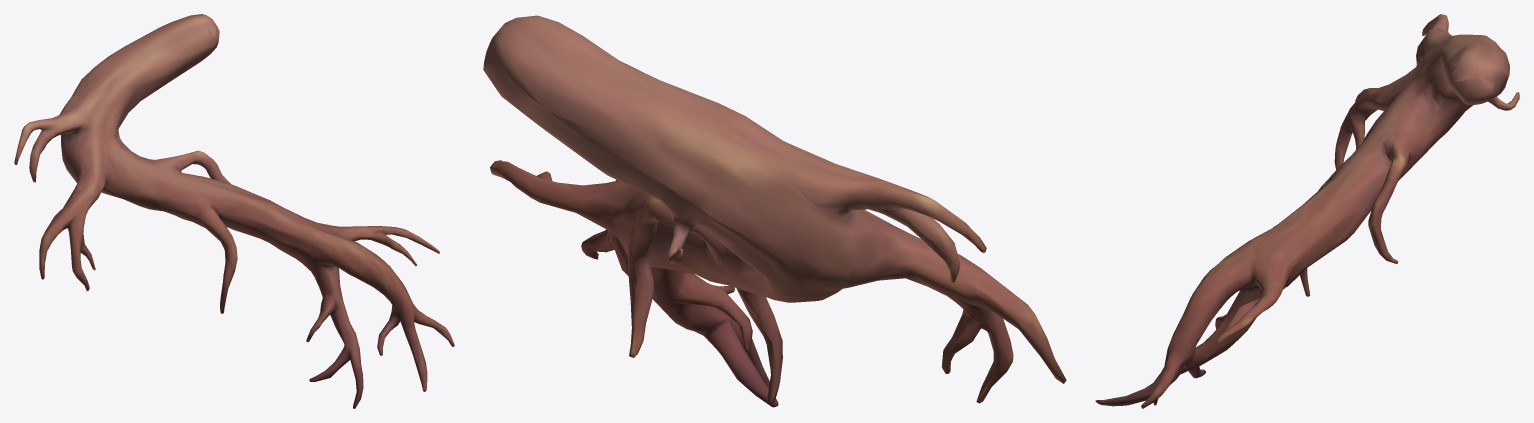
The model's file is bog_root_pathway_lite.glb.
The picture shows the model from 3 angles, left to right: view 1: azimuth 30°, elevation 25°; view 2: azimuth 150°, elevation 25°; view 3: azimuth 270°, elevation 25°; orthographic projection. The views are drawn at different scales.
Parts seen in each view (by area): view 1: SM_XBOG_STL_RootPathway_01A; view 2: SM_XBOG_STL_RootPathway_01A; view 3: SM_XBOG_STL_RootPathway_01A.
Boxes of the visible parts, x1,y1,x2,y2 form: SM_XBOG_STL_RootPathway_01A: [14, 14, 454, 408]; SM_XBOG_STL_RootPathway_01A: [483, 15, 1066, 407]; SM_XBOG_STL_RootPathway_01A: [1095, 14, 1519, 408].
Size of the model in its own units: 28.61 by 23.6 by 26.65.
Materials: 1 (1 with a texture image).
